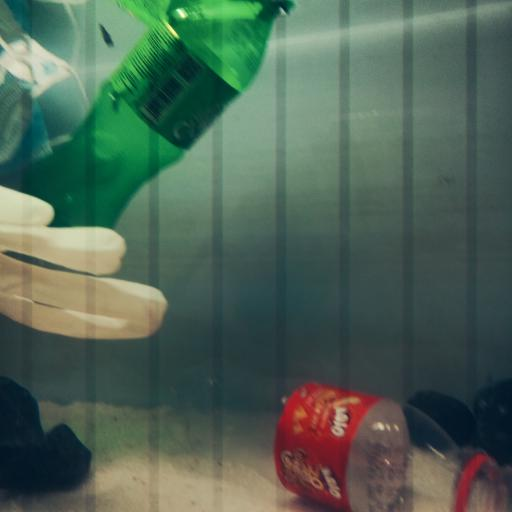glove: (0, 186, 167, 341)
mask: (0, 39, 91, 165)
plastic_bottle: (32, 0, 290, 233), (157, 362, 512, 512)
